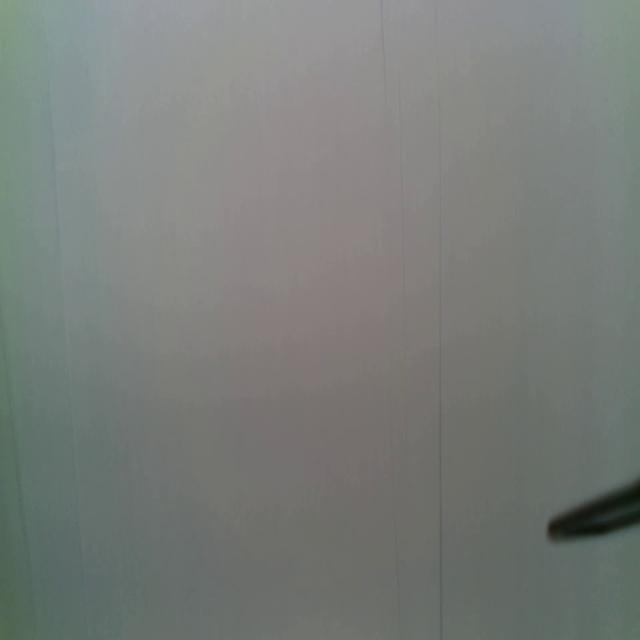crease: (47, 78, 91, 640), (1, 316, 37, 636), (434, 0, 444, 639), (396, 64, 408, 322), (391, 500, 403, 640), (378, 0, 390, 113)
